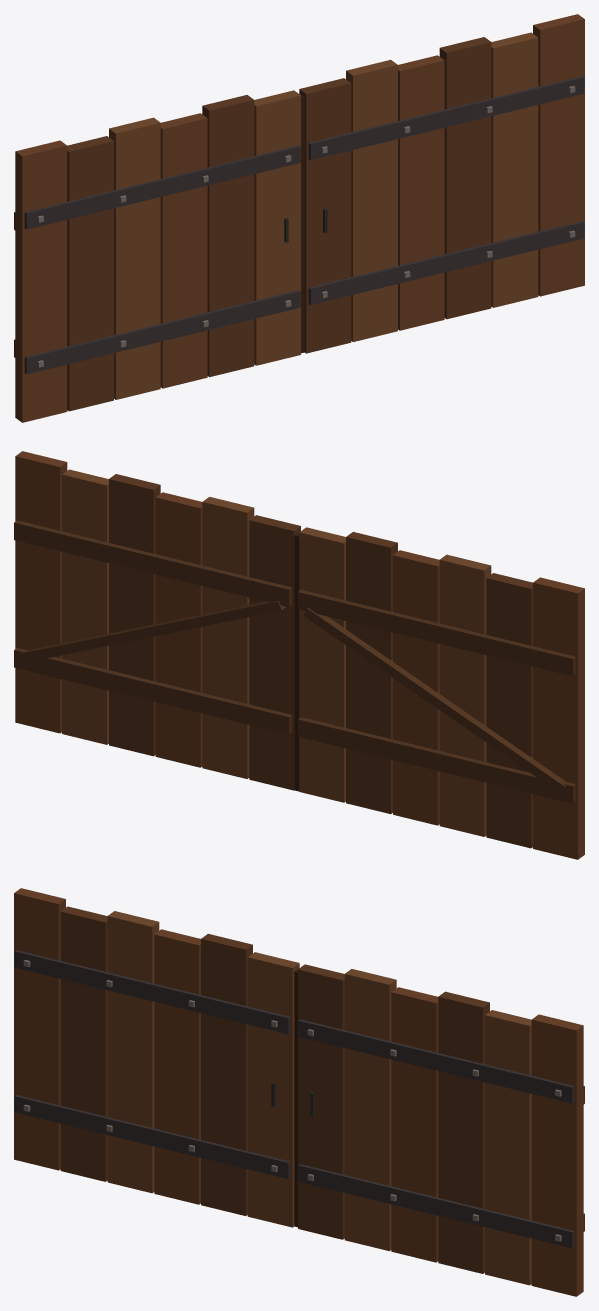
3 views of the same model, one above another, from view 1: azimuth 30°, elevation 25°; view 2: azimuth 150°, elevation 25°; view 3: azimuth 330°, elevation 25° (orthographic).
Parts seen in each view (by area): view 1: baked (×2); view 2: baked; view 3: baked (×2).
Boxes of the visible parts, bbox=[...] form: baked (×2): bbox=[14, 14, 584, 422]; baked: bbox=[14, 451, 584, 859]; baked (×2): bbox=[14, 888, 584, 1296].
Size of the model in its own units: 10.17 by 4.6 by 0.455.
